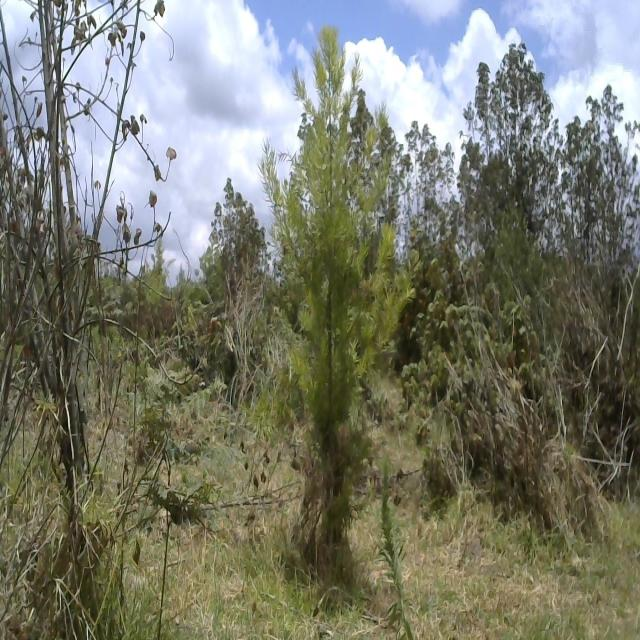Podocarpus falcatus: (260, 25, 412, 481)
other: (0, 2, 171, 640), (466, 44, 554, 254), (564, 84, 640, 251), (400, 114, 458, 279), (204, 167, 262, 301)
